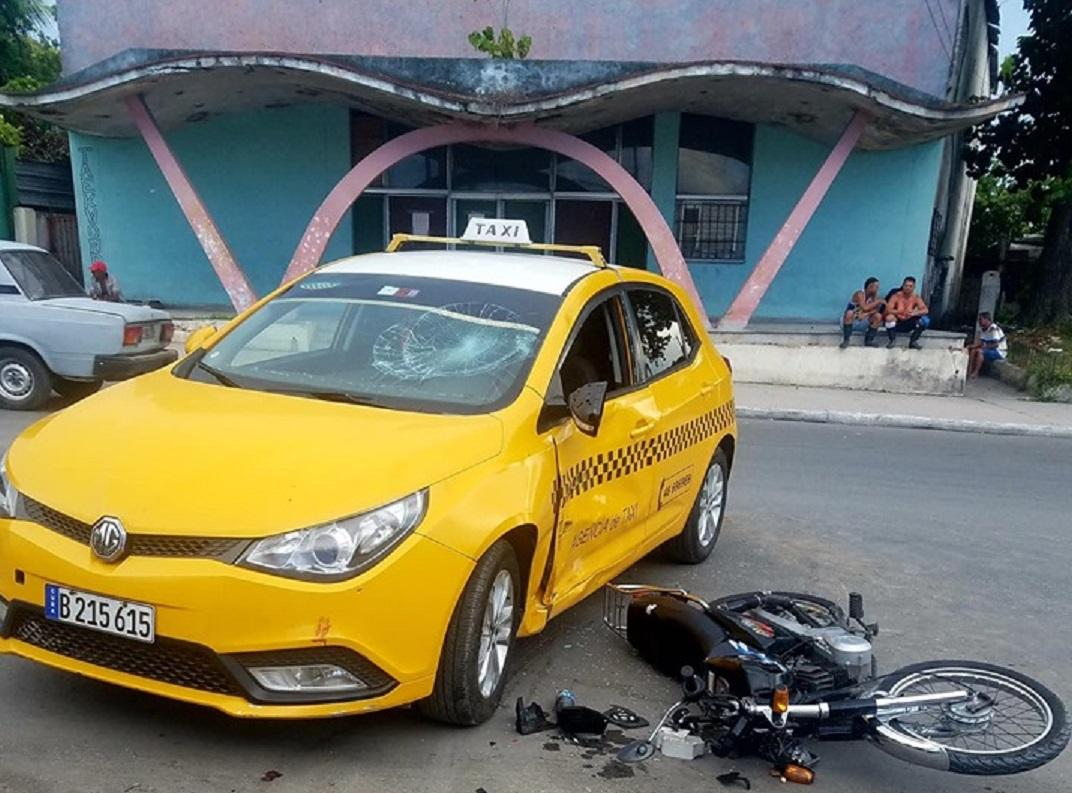taxi: (37, 208, 800, 580)
